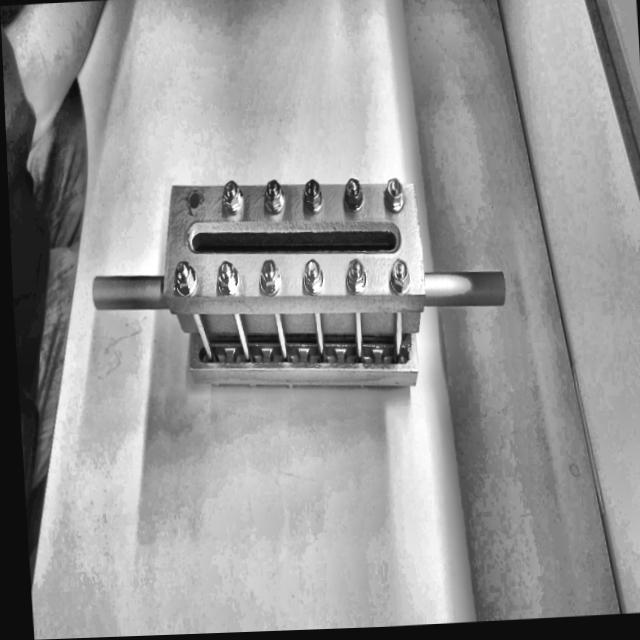ShuiWeiQi_11: (94, 94, 511, 416)
